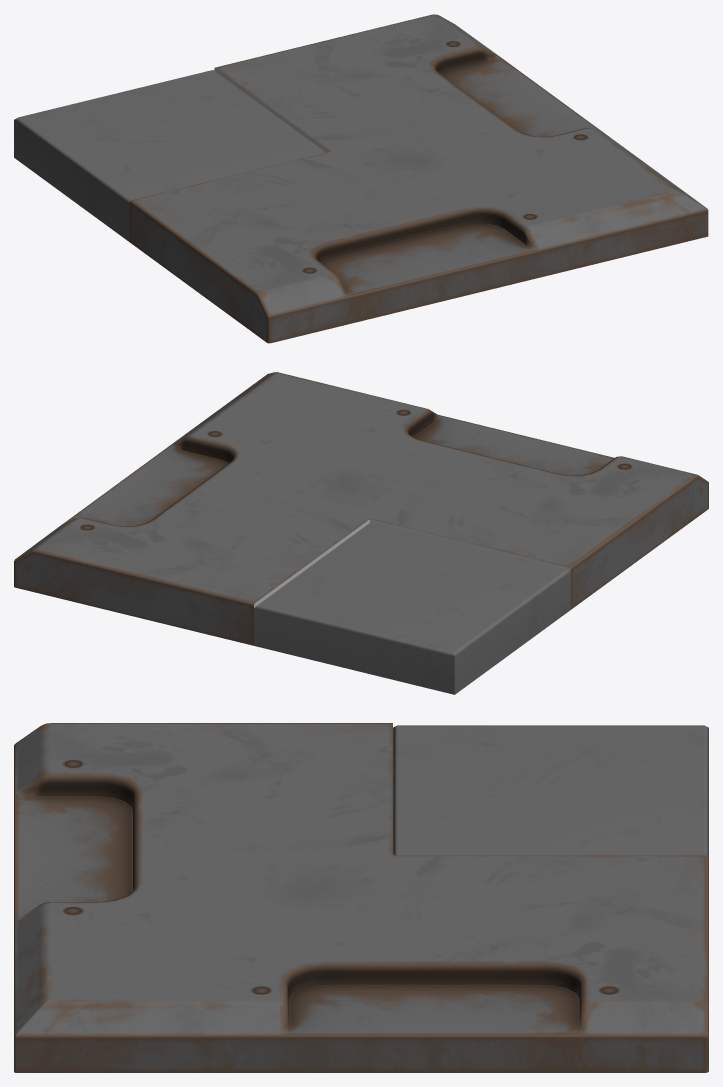
File: SM_RoomStyle_FloorCorner01.fbx
The picture shows the model from 3 angles, top to bottom: view 1: azimuth 30°, elevation 25°; view 2: azimuth 150°, elevation 25°; view 3: azimuth 270°, elevation 25°; orthographic projection. The views are drawn at different scales.
Parts seen in each view (by area): view 1: SM_RoomStyle_FloorCorner01_LOD0; view 2: SM_RoomStyle_FloorCorner01_LOD0; view 3: SM_RoomStyle_FloorCorner01_LOD0.
Part boxes in pixels (x1,y1,x2,y2): SM_RoomStyle_FloorCorner01_LOD0: (14, 14, 708, 343); SM_RoomStyle_FloorCorner01_LOD0: (14, 372, 708, 694); SM_RoomStyle_FloorCorner01_LOD0: (14, 723, 708, 1072).
Size of the model in its own units: 110 by 110 by 10.01.
Materials: 2 (1 with a texture image).
